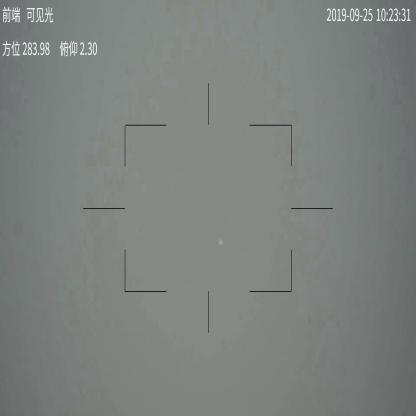uav: (218, 238, 223, 247)
